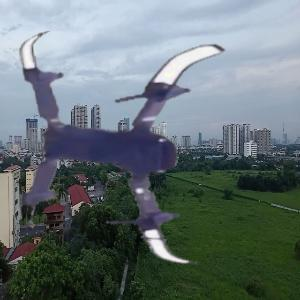drone: (7, 22, 261, 276)
